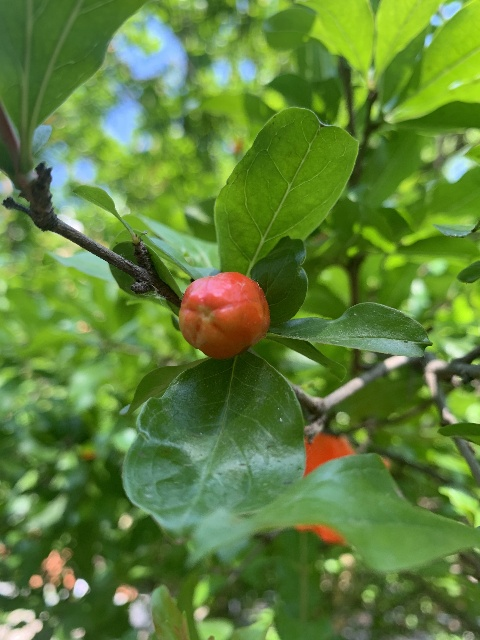bud: (179, 271, 270, 360)
flower: (292, 433, 390, 546)
